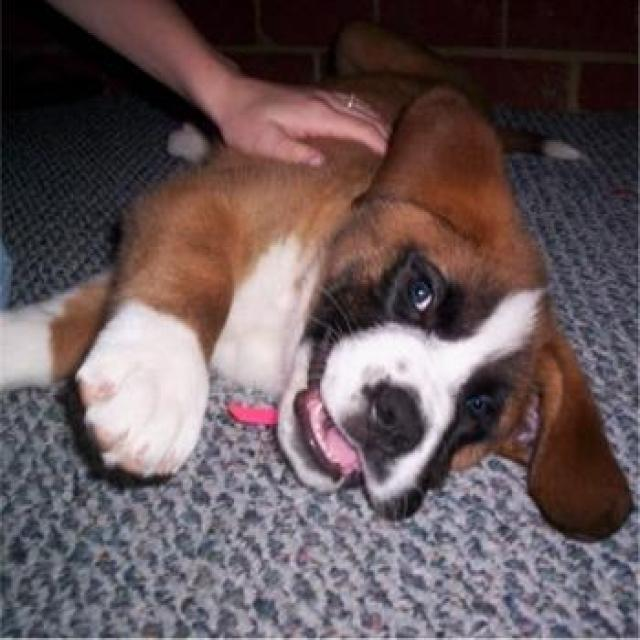non-dog: (48, 1, 394, 170)
puppy-dog: (0, 10, 631, 545)
